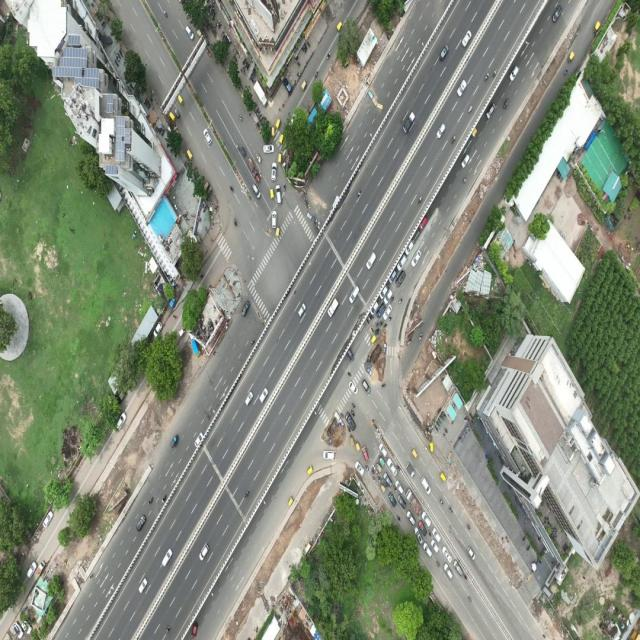3W: (568, 51, 575, 63), (594, 20, 600, 33), (471, 127, 477, 139), (376, 462, 382, 473), (170, 112, 176, 122), (187, 149, 193, 159), (275, 118, 281, 128), (440, 472, 446, 482), (355, 440, 360, 452), (350, 434, 355, 446), (241, 147, 246, 158), (412, 449, 418, 458), (380, 484, 386, 493), (178, 95, 183, 105), (270, 189, 275, 199), (279, 134, 284, 144), (301, 80, 306, 90), (337, 22, 342, 32), (504, 98, 509, 108), (371, 335, 376, 345), (278, 152, 282, 164), (307, 466, 313, 474), (379, 457, 384, 466), (288, 497, 293, 506), (276, 226, 280, 237), (430, 442, 433, 453), (272, 127, 274, 137)
Cars: (199, 543, 209, 562), (387, 457, 397, 476), (43, 510, 54, 527), (116, 412, 126, 430), (457, 80, 467, 98), (411, 250, 421, 268), (366, 252, 376, 270), (421, 476, 431, 494), (345, 412, 355, 430), (136, 516, 147, 532), (162, 549, 172, 566), (439, 44, 449, 61), (552, 5, 562, 22), (396, 270, 406, 287), (203, 128, 212, 146), (13, 622, 23, 638), (138, 578, 148, 594), (486, 103, 496, 119), (397, 255, 407, 271), (349, 286, 359, 302), (453, 560, 463, 576), (442, 546, 452, 562), (462, 30, 471, 47), (383, 303, 392, 320), (422, 510, 431, 527), (414, 527, 423, 544), (194, 433, 204, 448), (436, 123, 446, 138), (252, 183, 261, 199), (376, 303, 385, 319), (444, 563, 453, 579), (418, 520, 427, 536), (241, 300, 250, 316), (22, 620, 32, 634), (404, 240, 414, 254), (348, 381, 358, 395), (27, 562, 36, 577), (259, 388, 268, 403), (283, 77, 292, 92), (509, 66, 518, 81), (384, 289, 393, 304), (406, 463, 415, 478), (383, 472, 392, 487), (418, 217, 428, 230), (185, 26, 194, 40), (153, 322, 162, 336), (388, 270, 397, 284), (379, 285, 388, 299), (432, 528, 441, 542), (423, 542, 432, 556), (398, 495, 407, 509), (395, 480, 404, 494), (355, 461, 364, 475), (245, 391, 253, 406), (323, 450, 335, 460), (407, 510, 415, 525), (362, 379, 370, 394), (467, 547, 476, 560), (271, 162, 277, 181), (276, 185, 282, 204), (461, 154, 469, 168), (370, 301, 378, 315), (298, 303, 306, 317), (263, 144, 274, 154), (389, 492, 396, 507), (431, 540, 439, 553), (192, 621, 198, 638), (379, 444, 387, 456), (362, 445, 368, 460), (272, 211, 277, 227), (348, 349, 354, 362)
LCV: (403, 112, 415, 133), (327, 298, 338, 318)
M2W: (148, 496, 154, 505), (451, 134, 456, 144), (483, 74, 489, 81), (245, 490, 250, 498), (351, 402, 356, 409), (382, 382, 387, 389), (250, 339, 255, 346), (236, 144, 240, 152), (418, 195, 422, 203), (469, 105, 473, 113), (468, 594, 472, 602), (372, 476, 376, 484), (163, 10, 167, 17), (258, 170, 262, 177), (493, 70, 497, 77), (419, 332, 423, 339), (436, 560, 440, 567), (397, 514, 401, 521), (372, 464, 376, 471), (327, 53, 331, 60), (283, 183, 286, 192), (234, 218, 237, 226), (463, 178, 467, 184), (388, 315, 392, 321), (449, 506, 452, 514), (396, 464, 400, 470), (365, 465, 369, 471), (384, 482, 388, 488), (340, 413, 344, 419), (167, 626, 170, 634), (239, 114, 242, 121), (467, 523, 470, 530), (428, 529, 431, 536), (163, 494, 166, 501), (201, 273, 204, 280), (399, 298, 403, 303), (351, 410, 355, 415), (358, 191, 361, 197), (464, 574, 467, 580), (376, 470, 379, 476), (378, 476, 381, 482), (347, 426, 350, 432), (564, 69, 567, 75), (391, 297, 394, 302), (380, 321, 383, 326), (440, 499, 443, 504), (348, 372, 351, 377), (376, 321, 379, 326), (315, 72, 318, 77), (372, 468, 374, 475), (230, 186, 233, 190), (384, 324, 388, 327), (376, 327, 378, 333), (377, 330, 380, 334), (394, 485, 396, 491), (382, 477, 384, 483)
MAV: (253, 81, 268, 108)
Truck: (406, 488, 422, 516)
